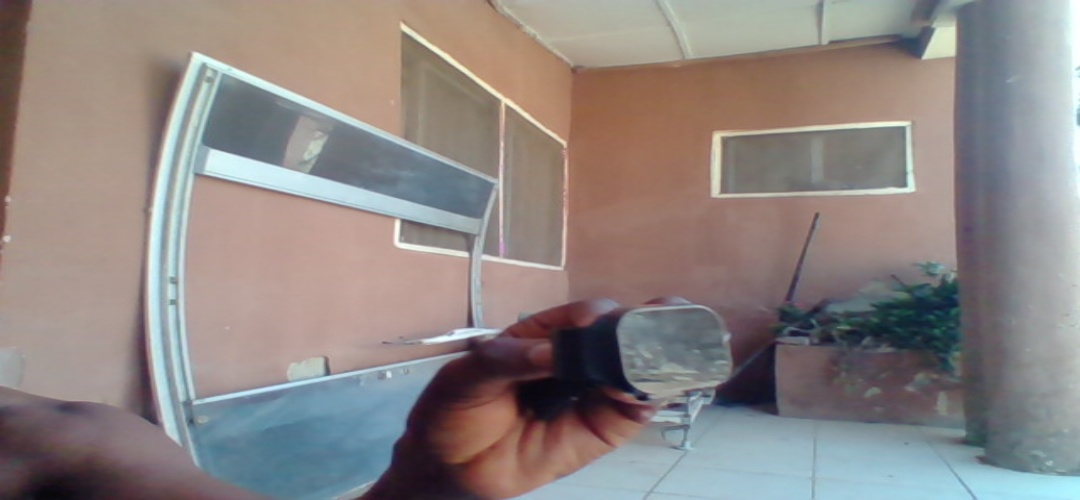smart_watch: (564, 301, 739, 404)
